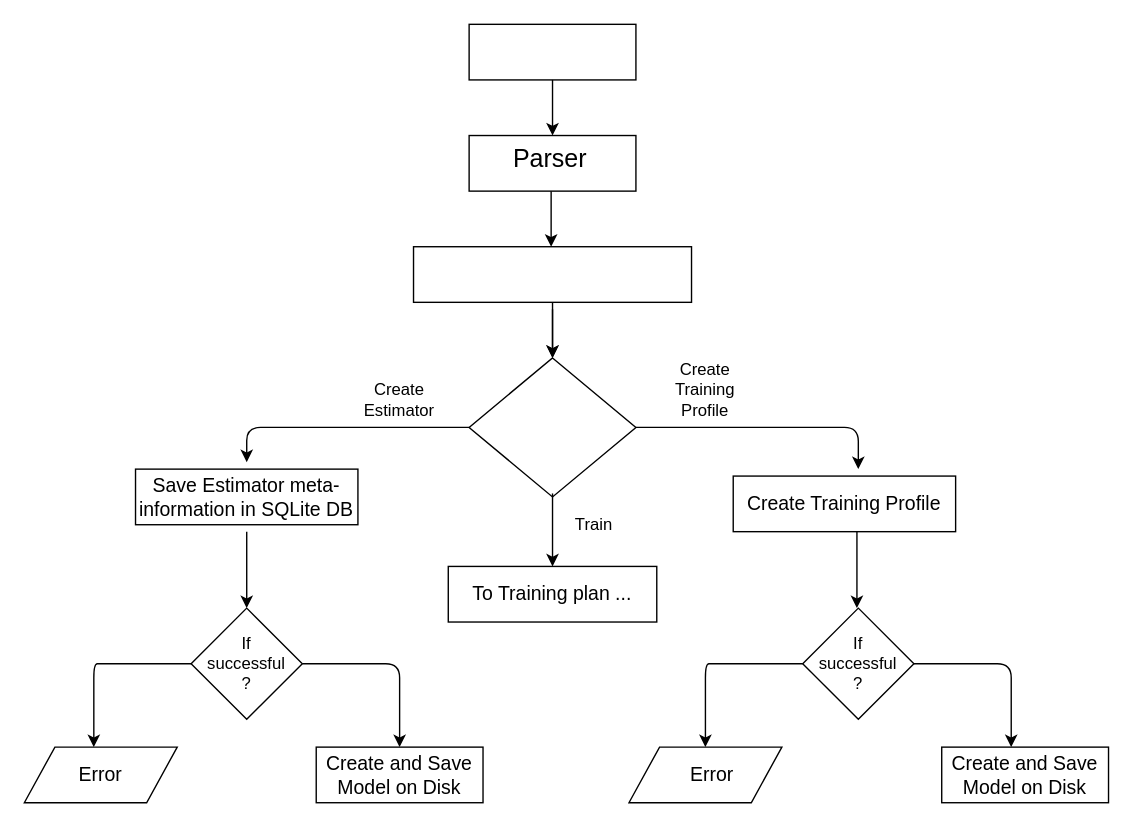
Image size: 1133x827. Some labels were removed from this diagram. The shapes that lost their labels are listed below. From the top down, each one's box as (x1, y1, x2, y2) in pixels, then its label:
(468, 23, 636, 80): Lexer
(412, 245, 692, 302): AST Processor
(468, 357, 636, 497): Check command type.
